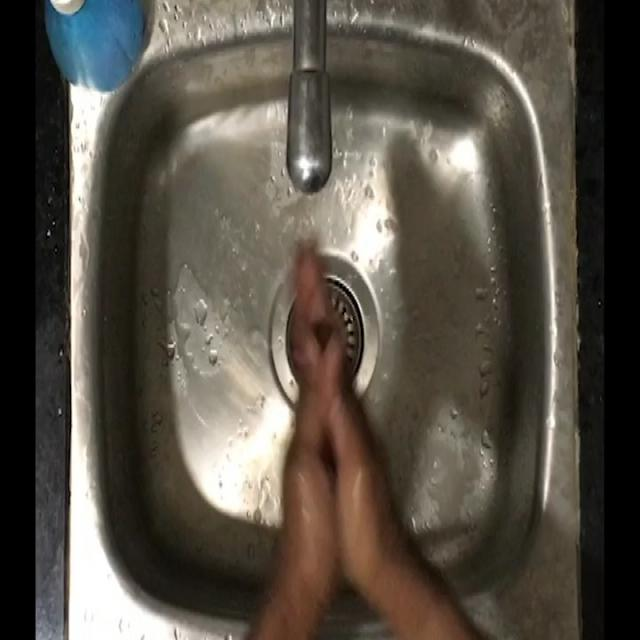step_1: (264, 213, 391, 570)
